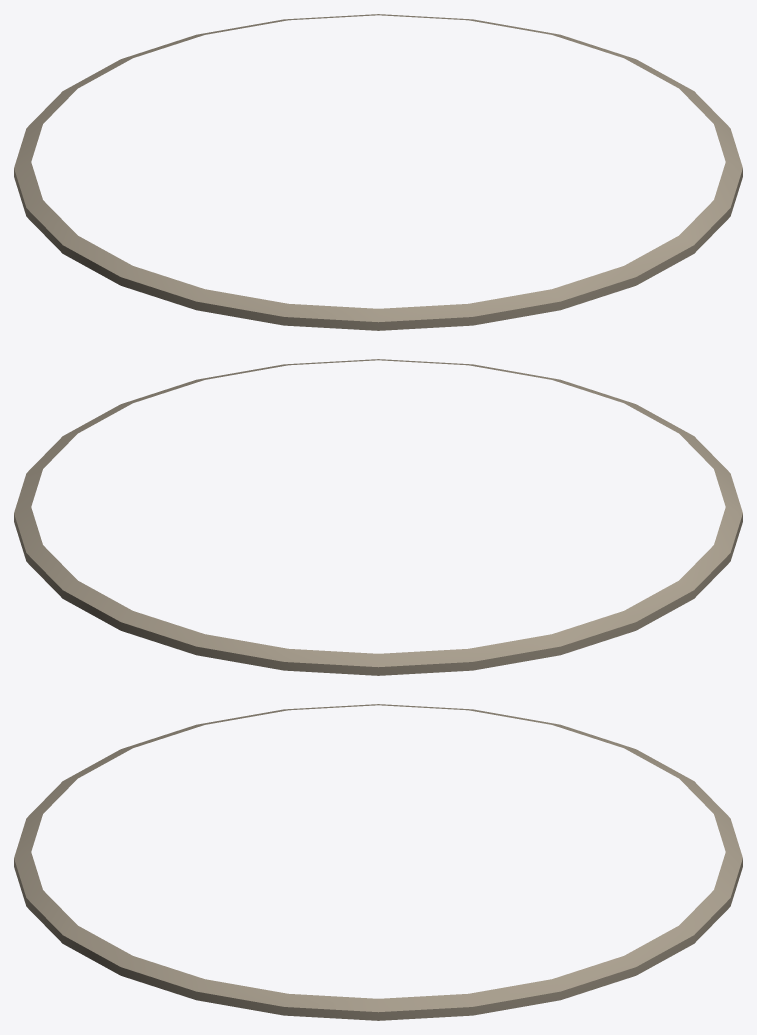
Rendered from dome.trim_bottom.stone.glb.
3 views of the same model, one above another, from view 1: azimuth 30°, elevation 25°; view 2: azimuth 150°, elevation 25°; view 3: azimuth 270°, elevation 25° (orthographic).
Visible parts, largest first — view 1: dome_trim_bottom_stone; view 2: dome_trim_bottom_stone; view 3: dome_trim_bottom_stone.
Boxes of the visible parts, x1=… form: dome_trim_bottom_stone: x1=14, y1=14, x2=742, y2=330; dome_trim_bottom_stone: x1=14, y1=359, x2=742, y2=675; dome_trim_bottom_stone: x1=14, y1=704, x2=742, y2=1020.
Size of what is drawn, in the model's own units: 7.6 by 0.17 by 7.6.
